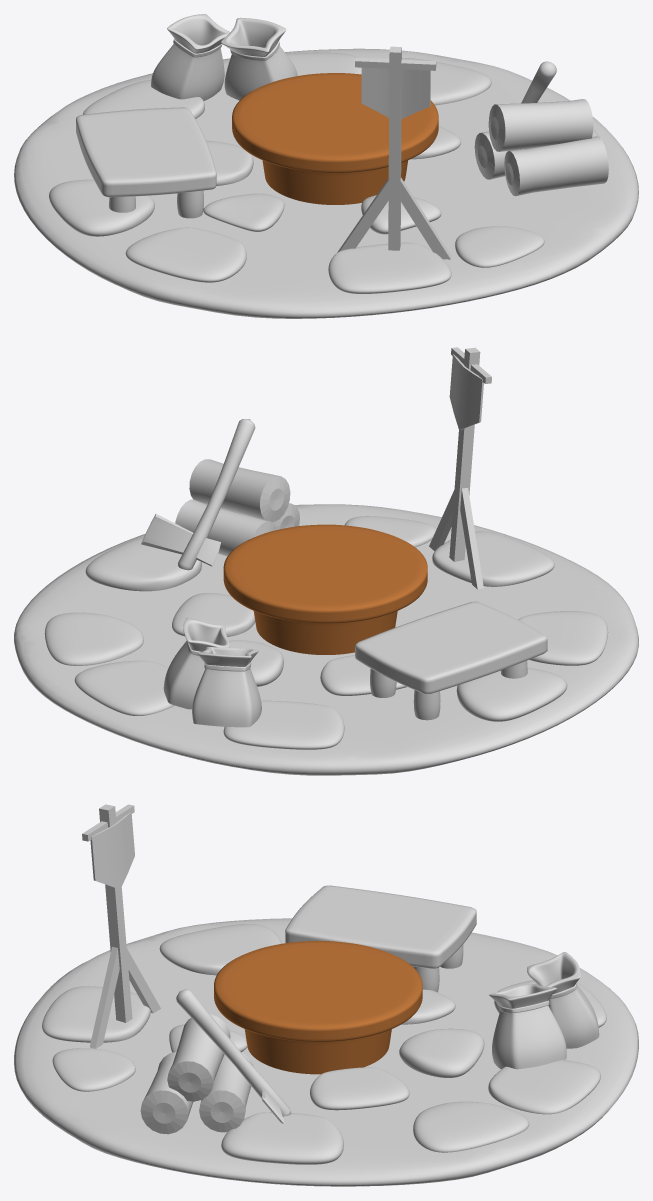
The model's file is Cartoon_Render001.fbx.
3 views of the same model, one above another, from view 1: azimuth 30°, elevation 25°; view 2: azimuth 150°, elevation 25°; view 3: azimuth 270°, elevation 25° (orthographic). The views are drawn at different scales.
Visible parts, largest first — view 1: Plane013, Cylinder001, Box001, Plane007, Plane002, Cylinder011, Cylinder007, Cylinder012, Cylinder008, Plane005, Plane014, Box002 (+14 smaller); view 2: Plane013, Cylinder001, Box001, Cylinder007, Plane006, Plane004, Plane005, Plane003, Plane001, Plane007, Cylinder012, Plane002 (+13 smaller); view 3: Plane013, Cylinder001, Box001, Plane001, Cylinder008, Plane003, Plane004, Plane002, Plane007, Cylinder007, Plane008, Plane012 (+11 smaller).
Boxes of the visible parts, box(x1,y1,x2,y2) form: Plane013: box(14, 48, 638, 318); Cylinder001: box(232, 73, 438, 204); Box001: box(76, 107, 216, 197); Plane007: box(328, 242, 451, 293); Plane002: box(125, 227, 246, 282); Cylinder011: box(504, 136, 608, 196); Cylinder007: box(151, 14, 230, 100); Cylinder012: box(488, 99, 593, 151); Cylinder008: box(220, 17, 297, 100); Plane005: box(49, 179, 154, 236); Plane014: box(455, 226, 544, 267); Box002: box(388, 46, 401, 250); Plane013: box(14, 504, 638, 775); Cylinder001: box(223, 524, 427, 654); Box001: box(355, 601, 547, 693); Cylinder007: box(192, 647, 261, 727); Plane006: box(223, 700, 344, 749); Plane004: box(44, 612, 143, 665); Plane005: box(456, 667, 567, 721); Plane003: box(74, 660, 174, 715); Plane001: box(85, 537, 201, 591); Plane007: box(432, 531, 554, 586); Cylinder012: box(189, 459, 290, 521); Plane002: box(518, 611, 608, 665); Plane013: box(14, 918, 638, 1186); Cylinder001: box(214, 941, 422, 1074); Box001: box(285, 885, 476, 968); Plane001: box(221, 1112, 343, 1164); Cylinder008: box(489, 984, 566, 1069); Plane003: box(488, 1060, 600, 1114); Plane004: box(413, 1101, 529, 1152); Plane002: box(159, 924, 281, 975); Plane007: box(42, 986, 150, 1042); Cylinder007: box(527, 952, 599, 1048); Plane008: box(310, 1067, 409, 1110); Plane012: box(399, 1028, 484, 1077).
Bounding box in the file's own units: 134 × 55.31 × 134.
